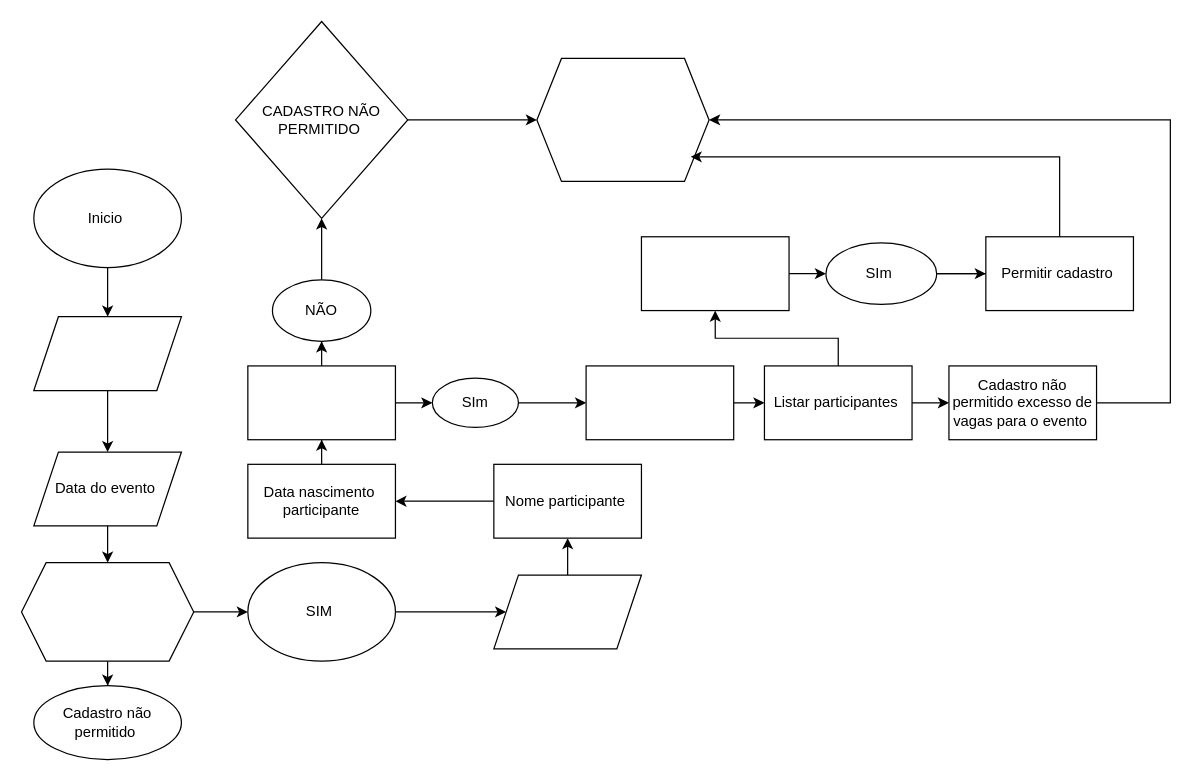
This 1202x781 diagram has some shape labels left out. Here are the shapes that lost their labels. From the top down, the centre of each, then its label:
(x=622, y=119): FIM
(x=714, y=273): Numero de participantes menor do que 100?
(x=107, y=353): Nome do evernto
(x=321, y=402): Participante maior de 18 anos?
(x=659, y=402): Cadastrar participante
(x=107, y=611): Data do evento posterior a data atua?
(x=567, y=611): Permitir o evento
